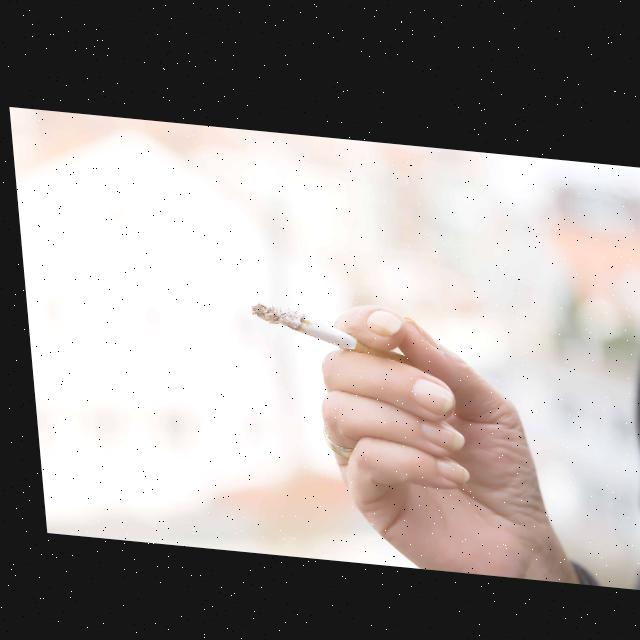cigarette: (246, 296, 360, 347)
